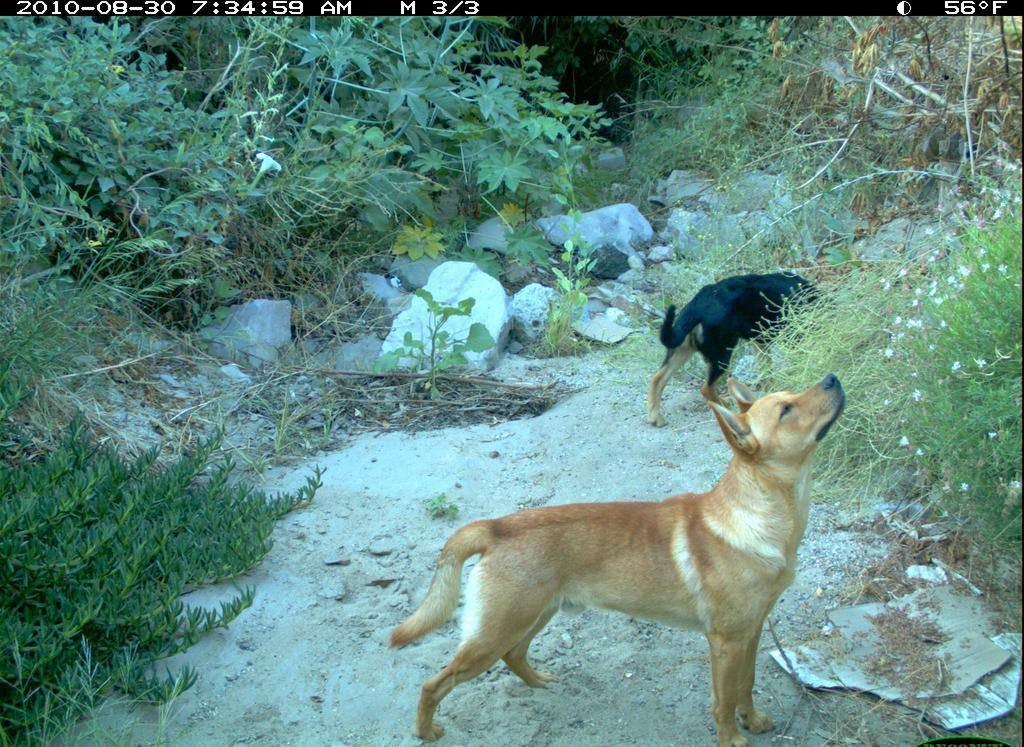dog: (387, 372, 858, 740), (647, 250, 838, 431)
